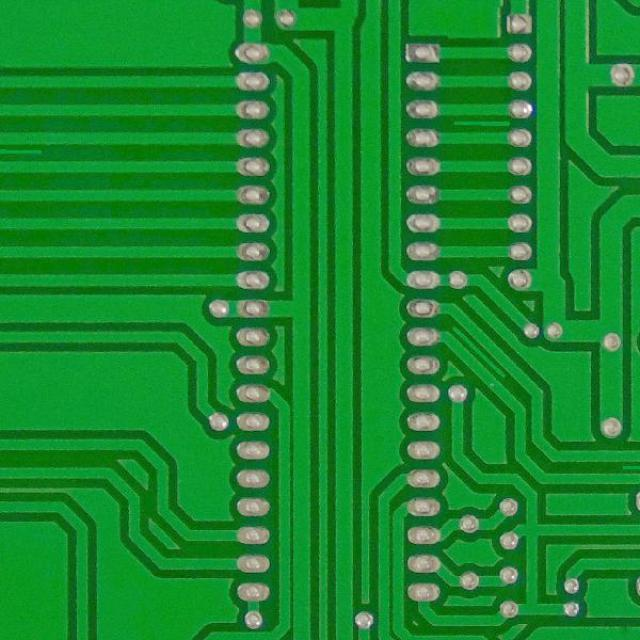Spurious_Cooper: (447, 320, 512, 381), (450, 116, 512, 129), (0, 145, 47, 158), (618, 461, 639, 472)
